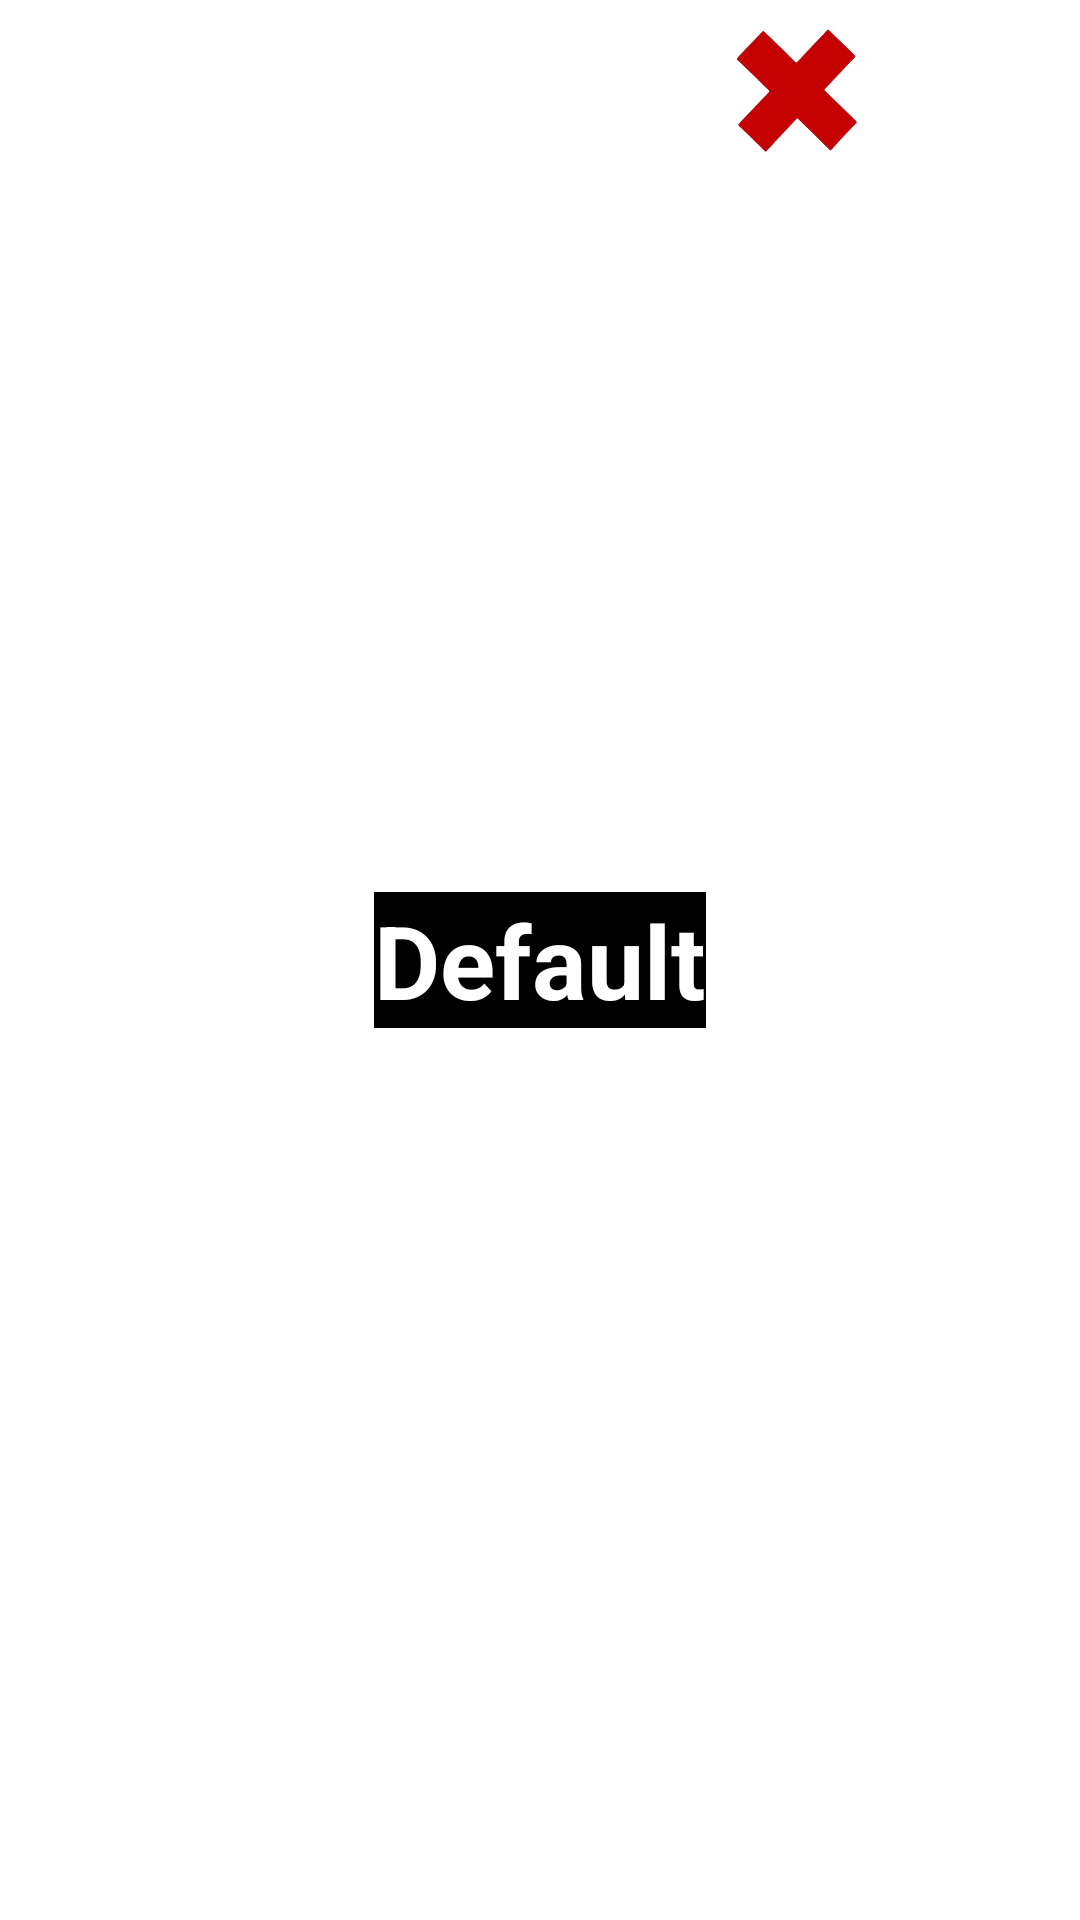

Icons on this 1080 x 1920 Android screen, each with the point to tap as point (x, y):
redx: point (797, 90)
